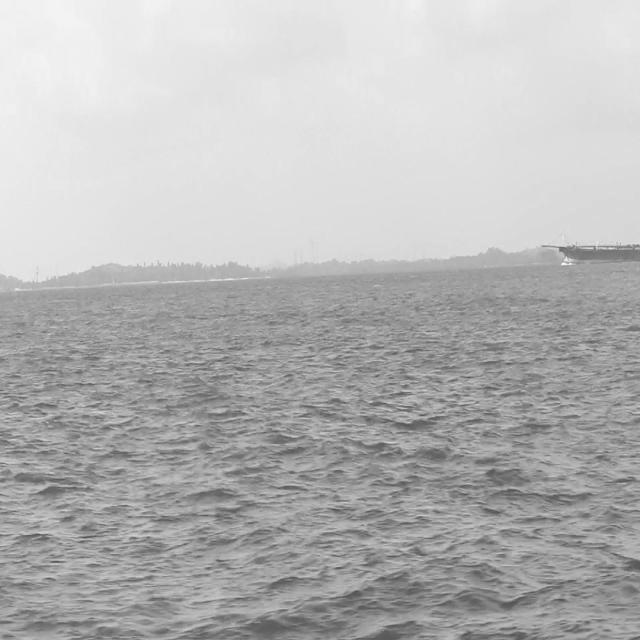ship: (538, 224, 639, 274)
